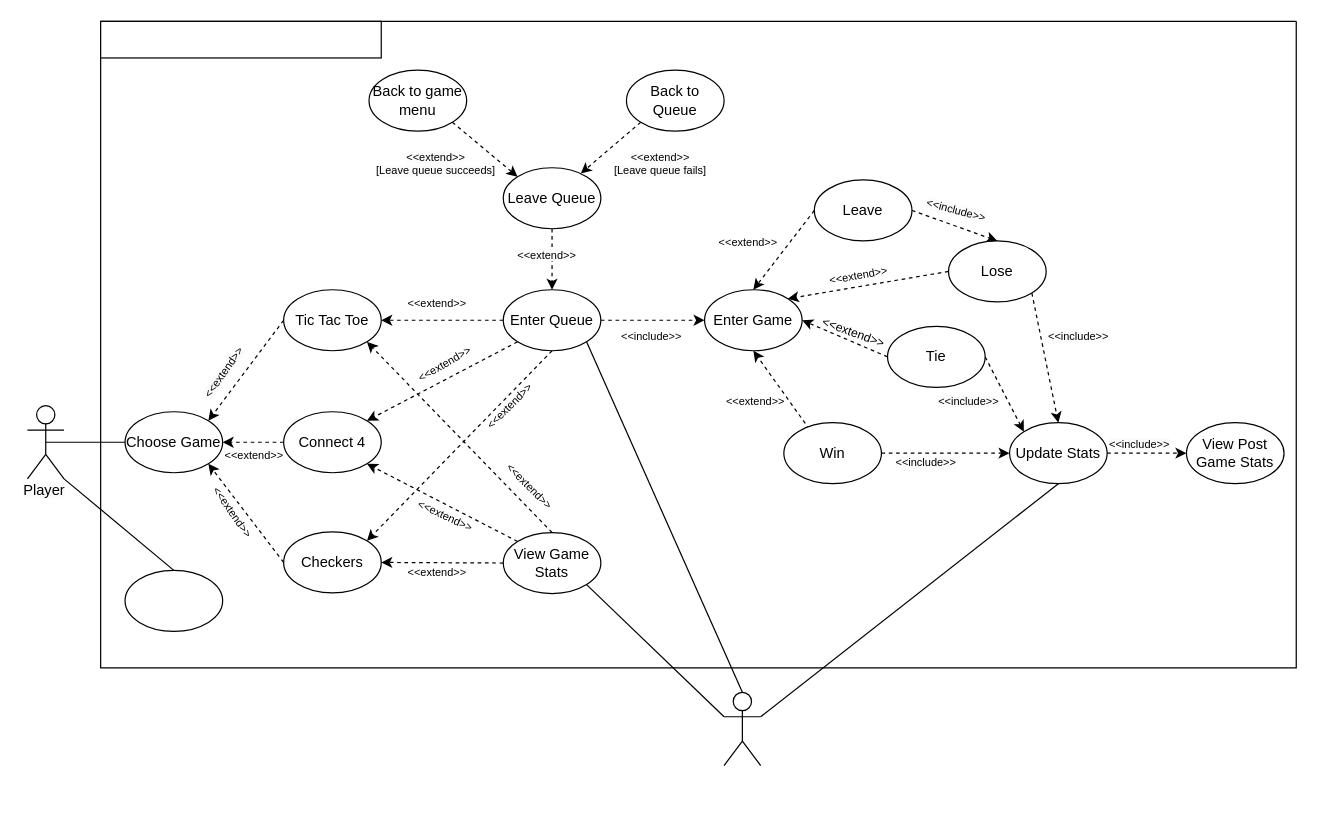
Some shapes in this 1318 by 813 pixel diagram are drawn without their labels. The centre of each missing label's shape, as x and y in pixels:
Back Button (Universal): the point at 173,600
Database and Matchmaker: the point at 742,728
Leaderboard and Matchmaking System: the point at 240,39
